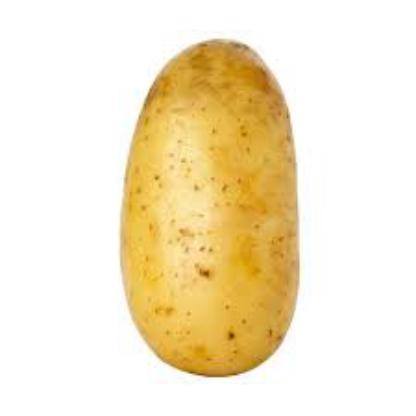potato: (119, 39, 300, 377)
